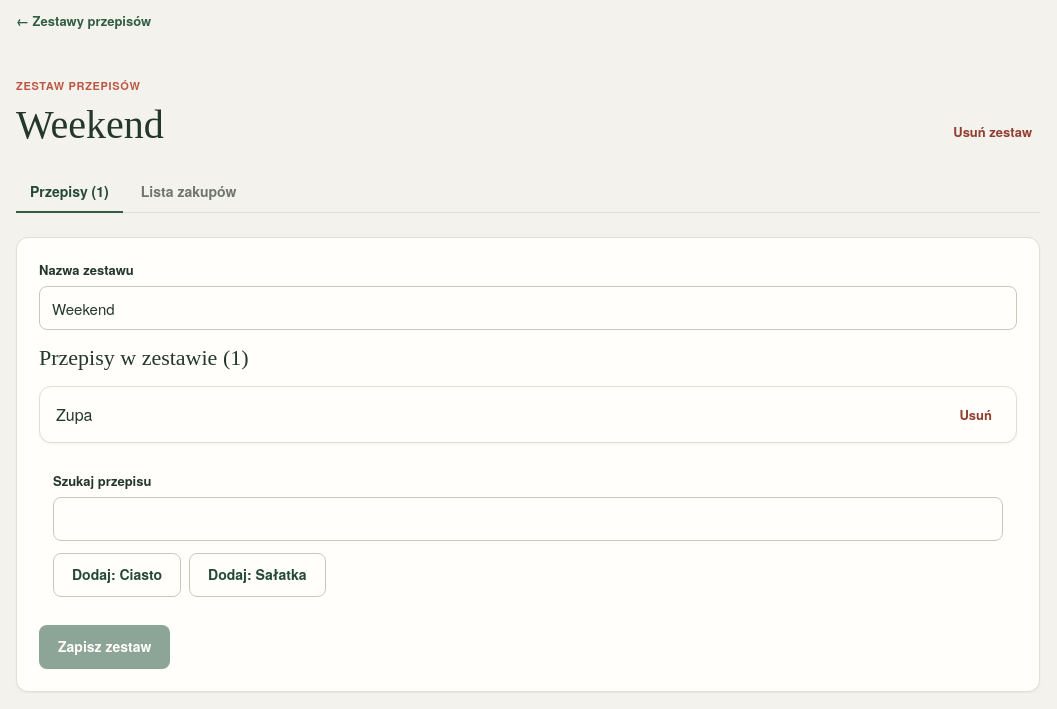
Test: recipe set view › filters recipes by title
Type "sał" into the field labelled "Szukaj przepisu" at point(528, 519), box [53,497,1003,541]
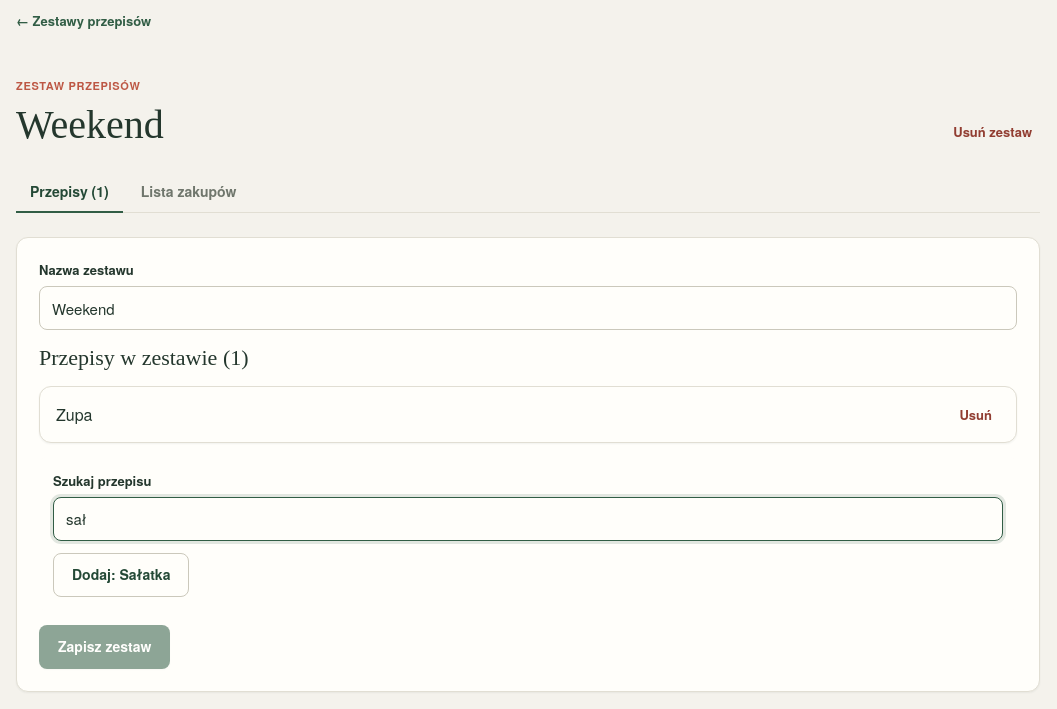
Expected: the button "Dodaj: Sałatka" is shown, [53,553,190,597]
Expected: the button "Dodaj: Ciasto" is gone
